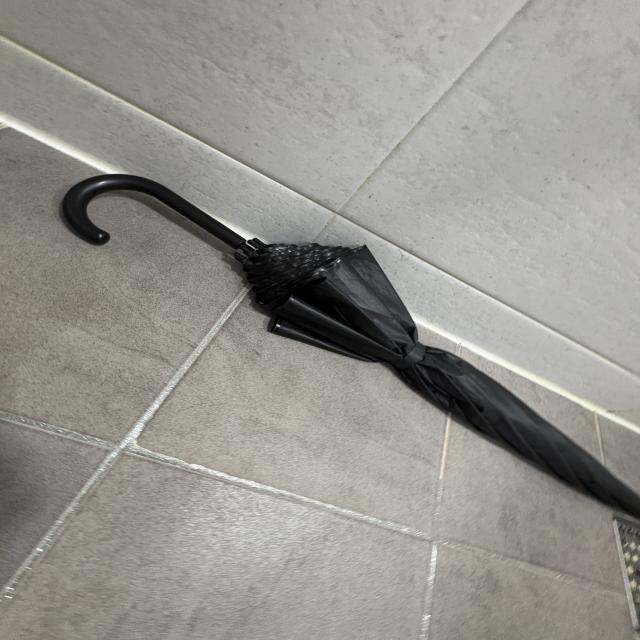umbrella: (63, 173, 640, 519)
